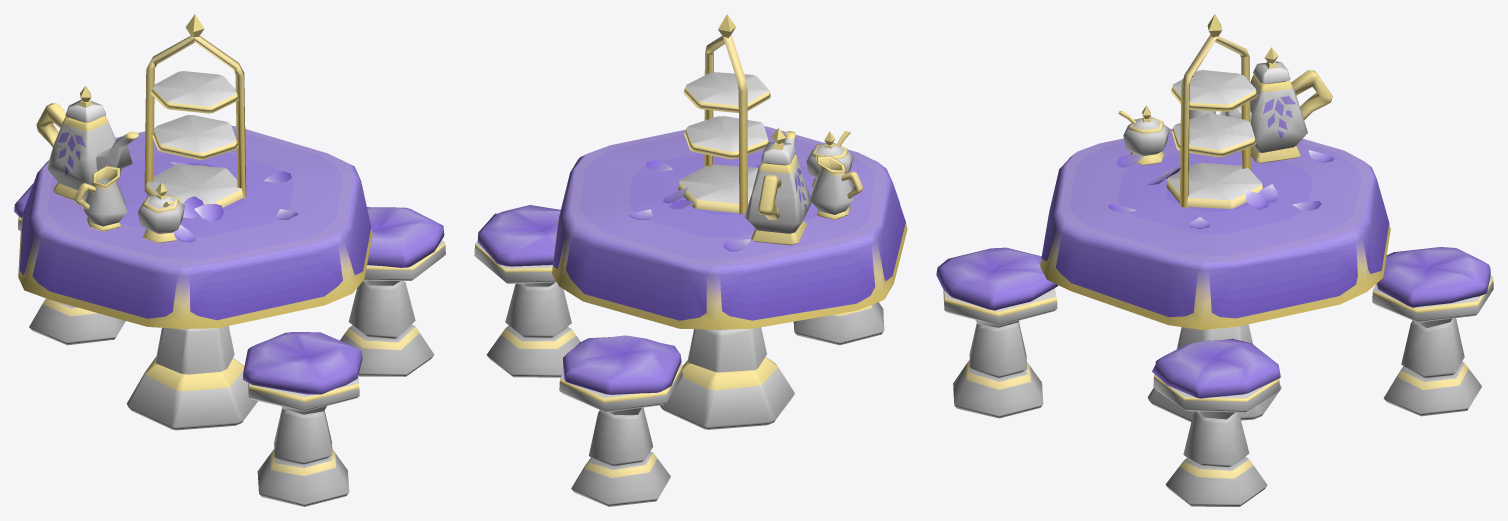
Rendered from Prop_WisteriaTea_01.glb.
The picture shows the model from 3 angles, left to right: view 1: azimuth 30°, elevation 25°; view 2: azimuth 150°, elevation 25°; view 3: azimuth 270°, elevation 25°; orthographic projection.
Visible parts, largest first — view 1: Prop_WisteriaTea_01; view 2: Prop_WisteriaTea_01; view 3: Prop_WisteriaTea_01.
Boxes of the visible parts, x1,y1,x2,y2 form: Prop_WisteriaTea_01: (14, 14, 445, 506); Prop_WisteriaTea_01: (474, 14, 907, 506); Prop_WisteriaTea_01: (936, 14, 1493, 506).
Size of the model in its own units: 14.5 by 13.39 by 17.58.
1 material, 1 textured.
